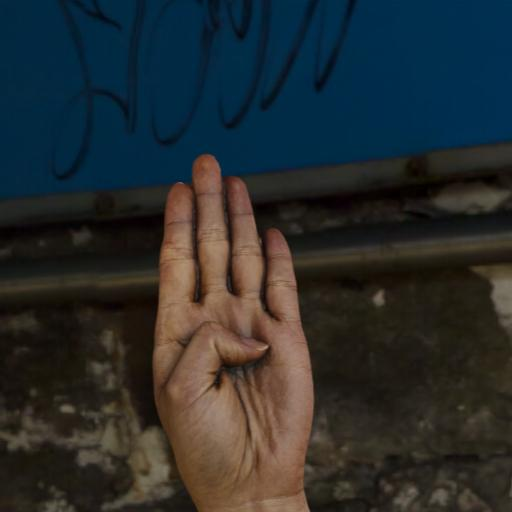B: (138, 146, 322, 512)
